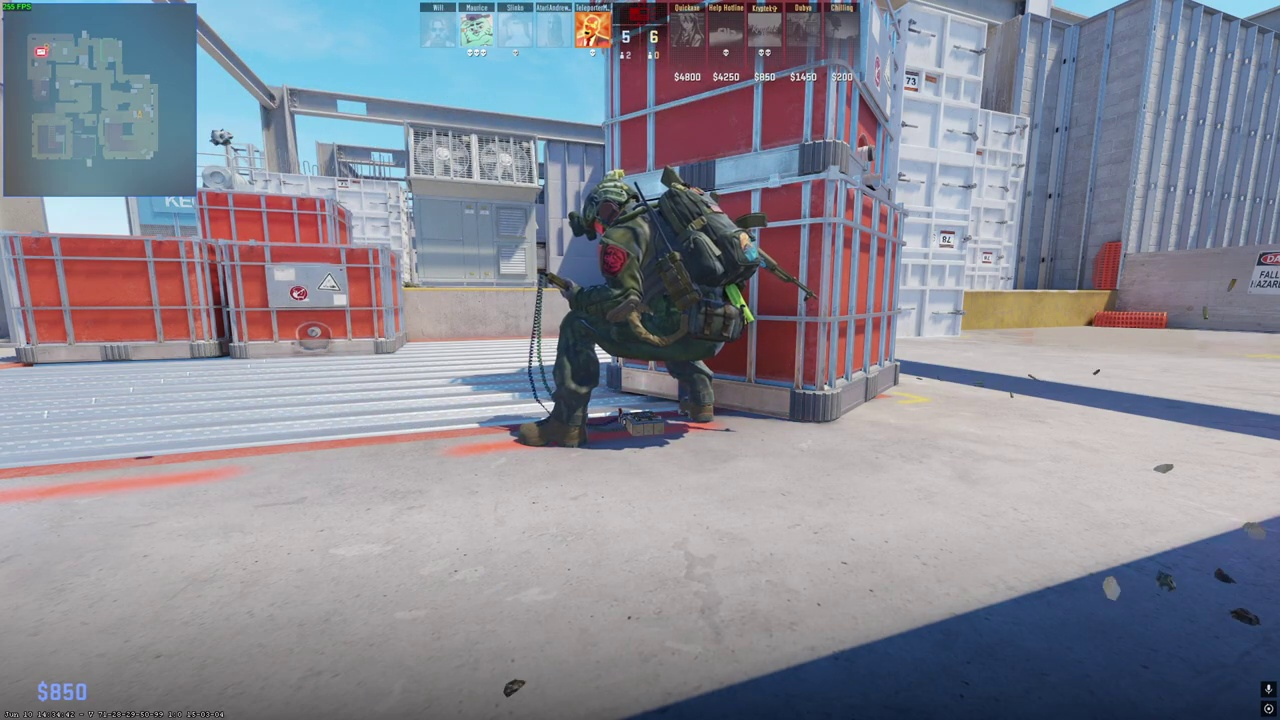CT: (536, 167, 747, 445)
